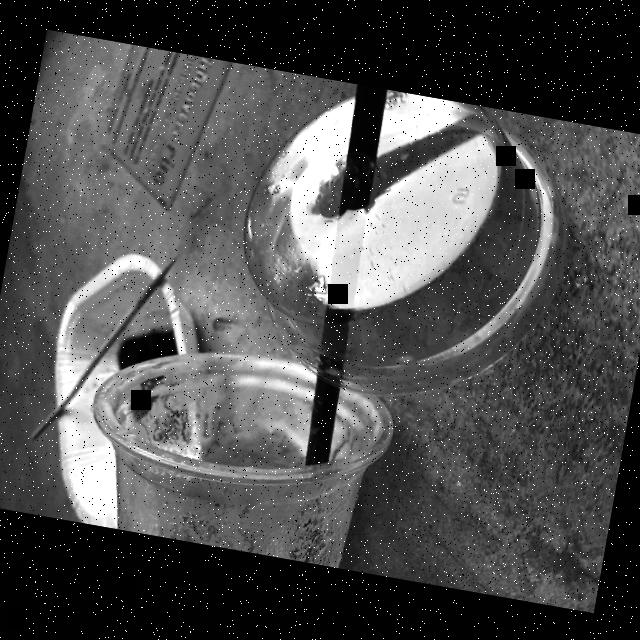cardboard_bowl: (15, 232, 222, 538)
plastic_cup: (71, 314, 404, 572)
plastic_cup_lid: (213, 67, 586, 432)
stick: (18, 248, 184, 453)
straw: (286, 82, 405, 483)
